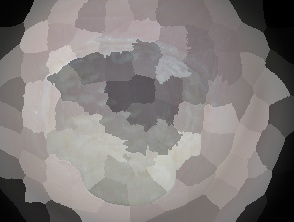Nail_psoriasis: (16, 14, 230, 222)
